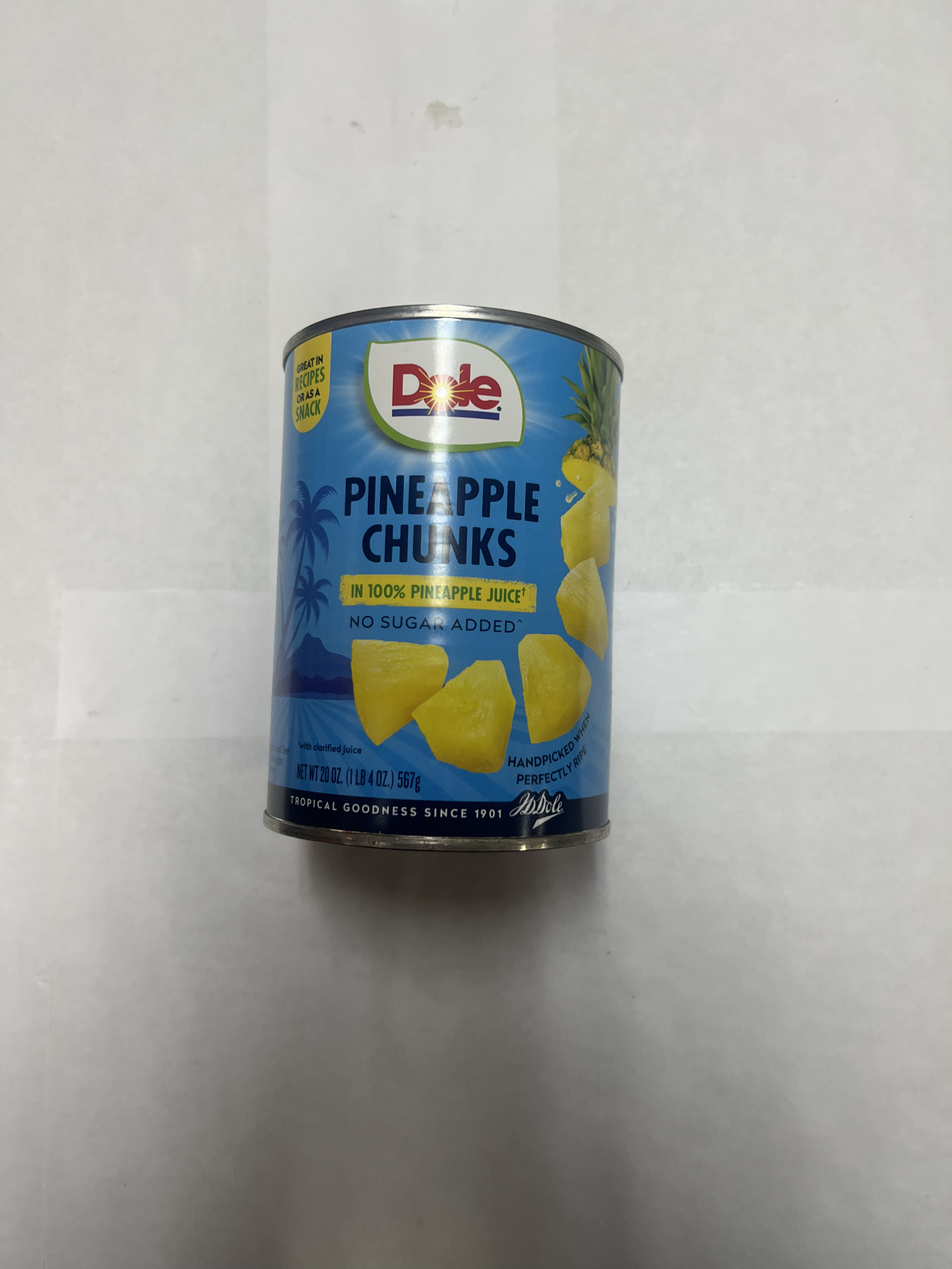packaged: (257, 298, 632, 863)
